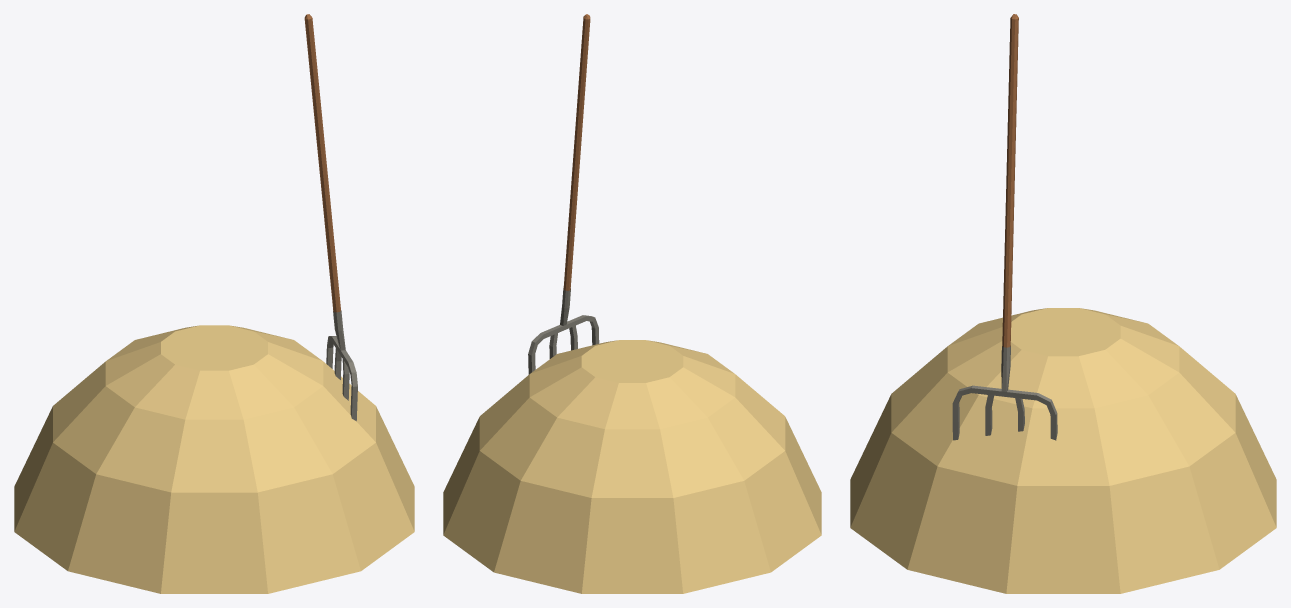
File: Prop_Decorative_Hay_Pile_Pitchfork.obj
3 renders of one model, left to right at view 1: azimuth 30°, elevation 25°; view 2: azimuth 150°, elevation 25°; view 3: azimuth 270°, elevation 25°, orthographic. The views are drawn at different scales.
Visible parts, largest first — view 1: Hay, object1, object2; view 2: Hay, object1, object2; view 3: Hay, object1, object2.
Boxes of the visible parts, left/top/right/bottom form: Hay: left=14, top=325, right=414, bottom=593; object1: left=304, top=14, right=340, bottom=312; object2: left=326, top=310, right=357, bottom=421; Hay: left=443, top=340, right=821, bottom=593; object1: left=563, top=14, right=590, bottom=290; object2: left=528, top=288, right=599, bottom=374; Hay: left=850, top=308, right=1276, bottom=593; object1: left=1002, top=14, right=1018, bottom=347; object2: left=952, top=346, right=1057, bottom=440.
Bounding box in the file's own units: 1.35 × 1.84 × 1.35.
